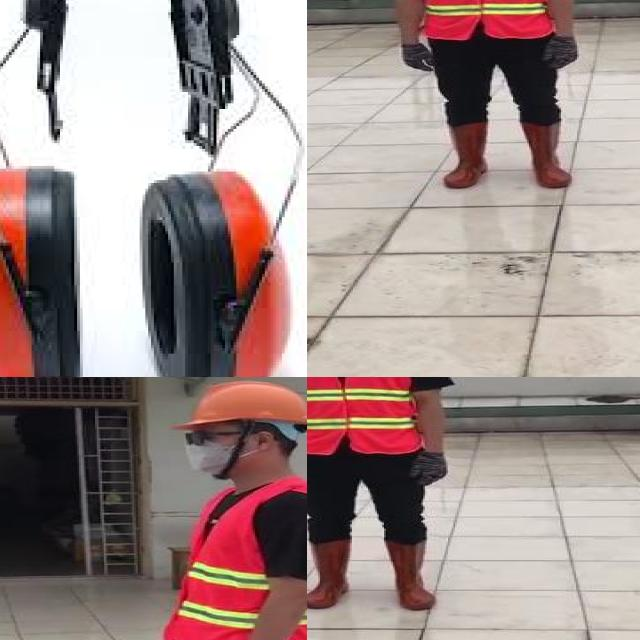Ear-protection: (136, 166, 293, 377), (0, 160, 82, 377)
boots: (379, 539, 441, 611), (516, 120, 578, 189), (440, 121, 490, 188), (307, 541, 354, 609)
face_mask: (175, 420, 255, 474)
glasses: (175, 424, 232, 452)
hand_glove: (410, 455, 450, 487), (399, 45, 440, 72), (545, 38, 579, 69)
head_helmet: (178, 378, 307, 430)
person: (140, 377, 307, 640), (378, 0, 586, 201), (307, 377, 462, 614)
vest: (167, 487, 307, 640), (307, 377, 423, 455), (409, 0, 550, 40)
